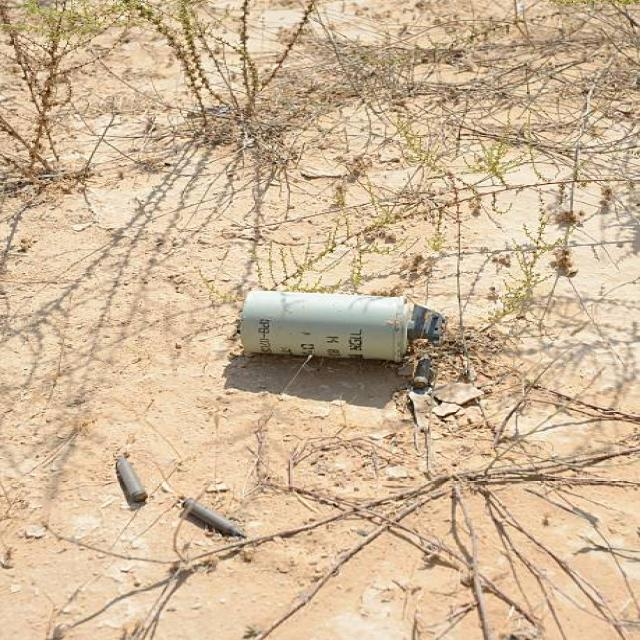grenade: (230, 289, 450, 369)
